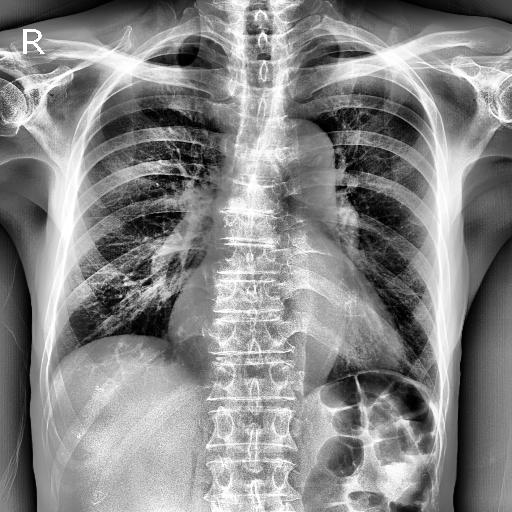0- Aortic enlargement: (250, 114, 344, 210), (270, 120, 336, 196), (274, 119, 334, 188)
11- Pleural thickening: (306, 32, 360, 42), (158, 34, 208, 42)
3- Cardiomegaly: (162, 288, 418, 389), (168, 278, 404, 370), (166, 292, 406, 370)
